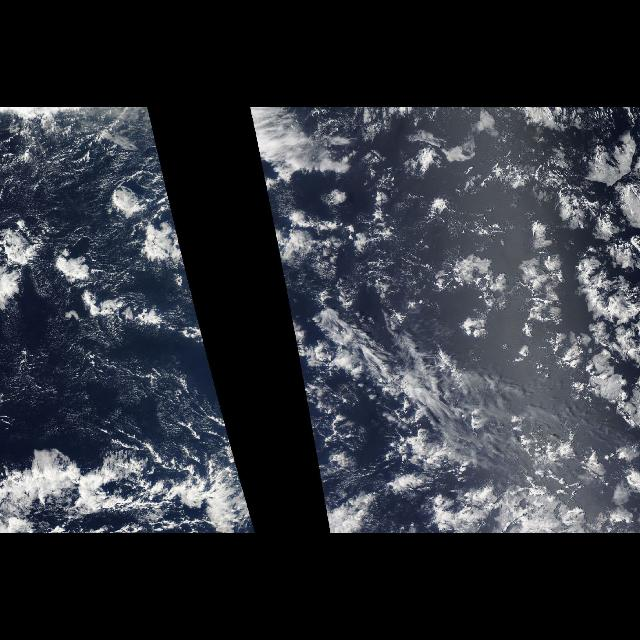Flower: (251, 116, 639, 508), (0, 116, 248, 508)
Sugar: (0, 320, 202, 454)
